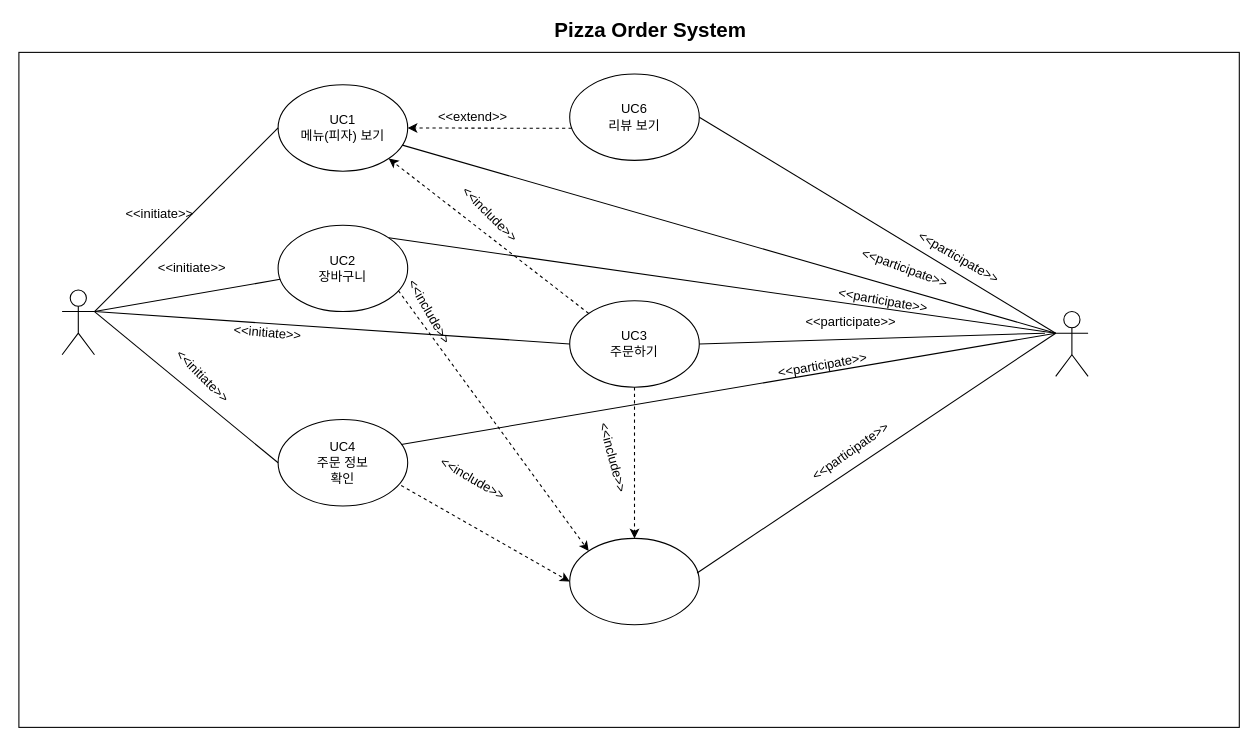
Some shapes in this 1258 by 746 pixel diagram are drawn without their labels. Here are the shapes that lost their labels. From the top down, the centre of each, then its label:
At point (77, 322): "고객".
At point (1071, 343): "데이터베이스".
At point (634, 581): "UC7 로그인".
